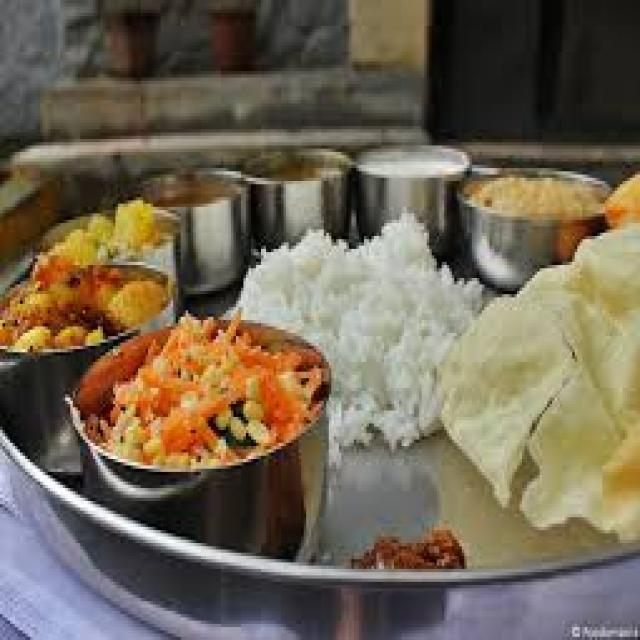papad: (429, 265, 640, 508)
rice: (322, 232, 452, 473), (248, 234, 348, 341)
roti: (94, 305, 327, 486)
veg-fry: (72, 297, 336, 489), (9, 182, 173, 365)
